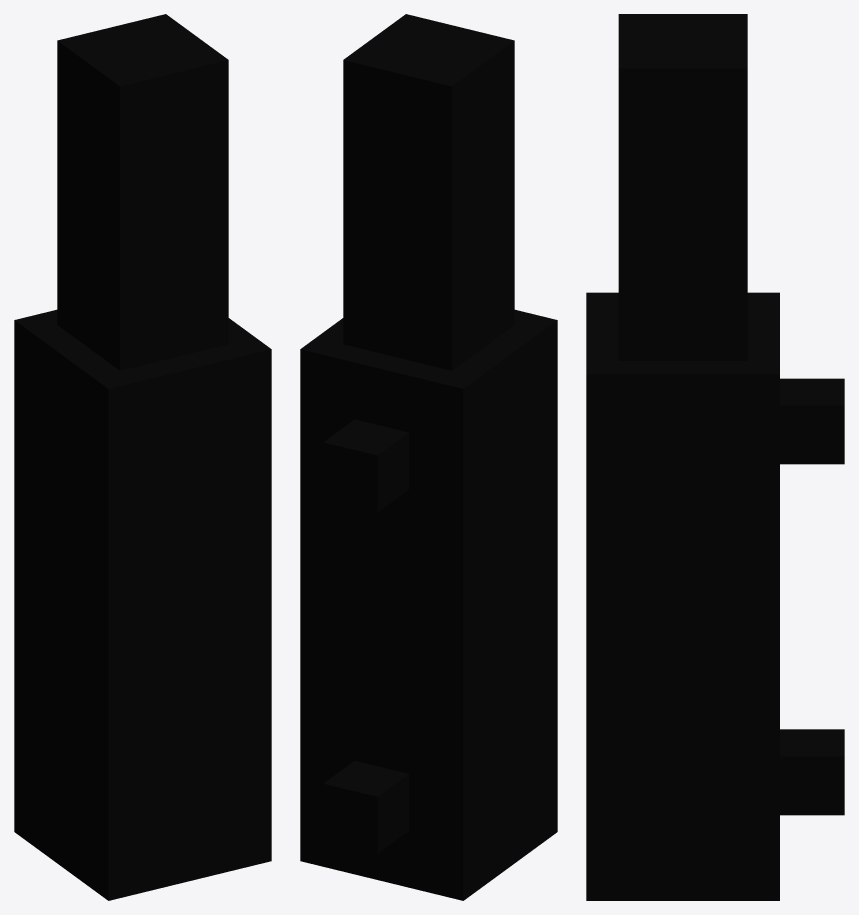
File: pneumatic_cylinder.obj
The picture shows the model from 3 angles, left to right: view 1: azimuth 30°, elevation 25°; view 2: azimuth 150°, elevation 25°; view 3: azimuth 270°, elevation 25°; orthographic projection. The views are drawn at different scales.
Bounding box in the file's own units: 0.1875 × 0.875 × 0.25.
